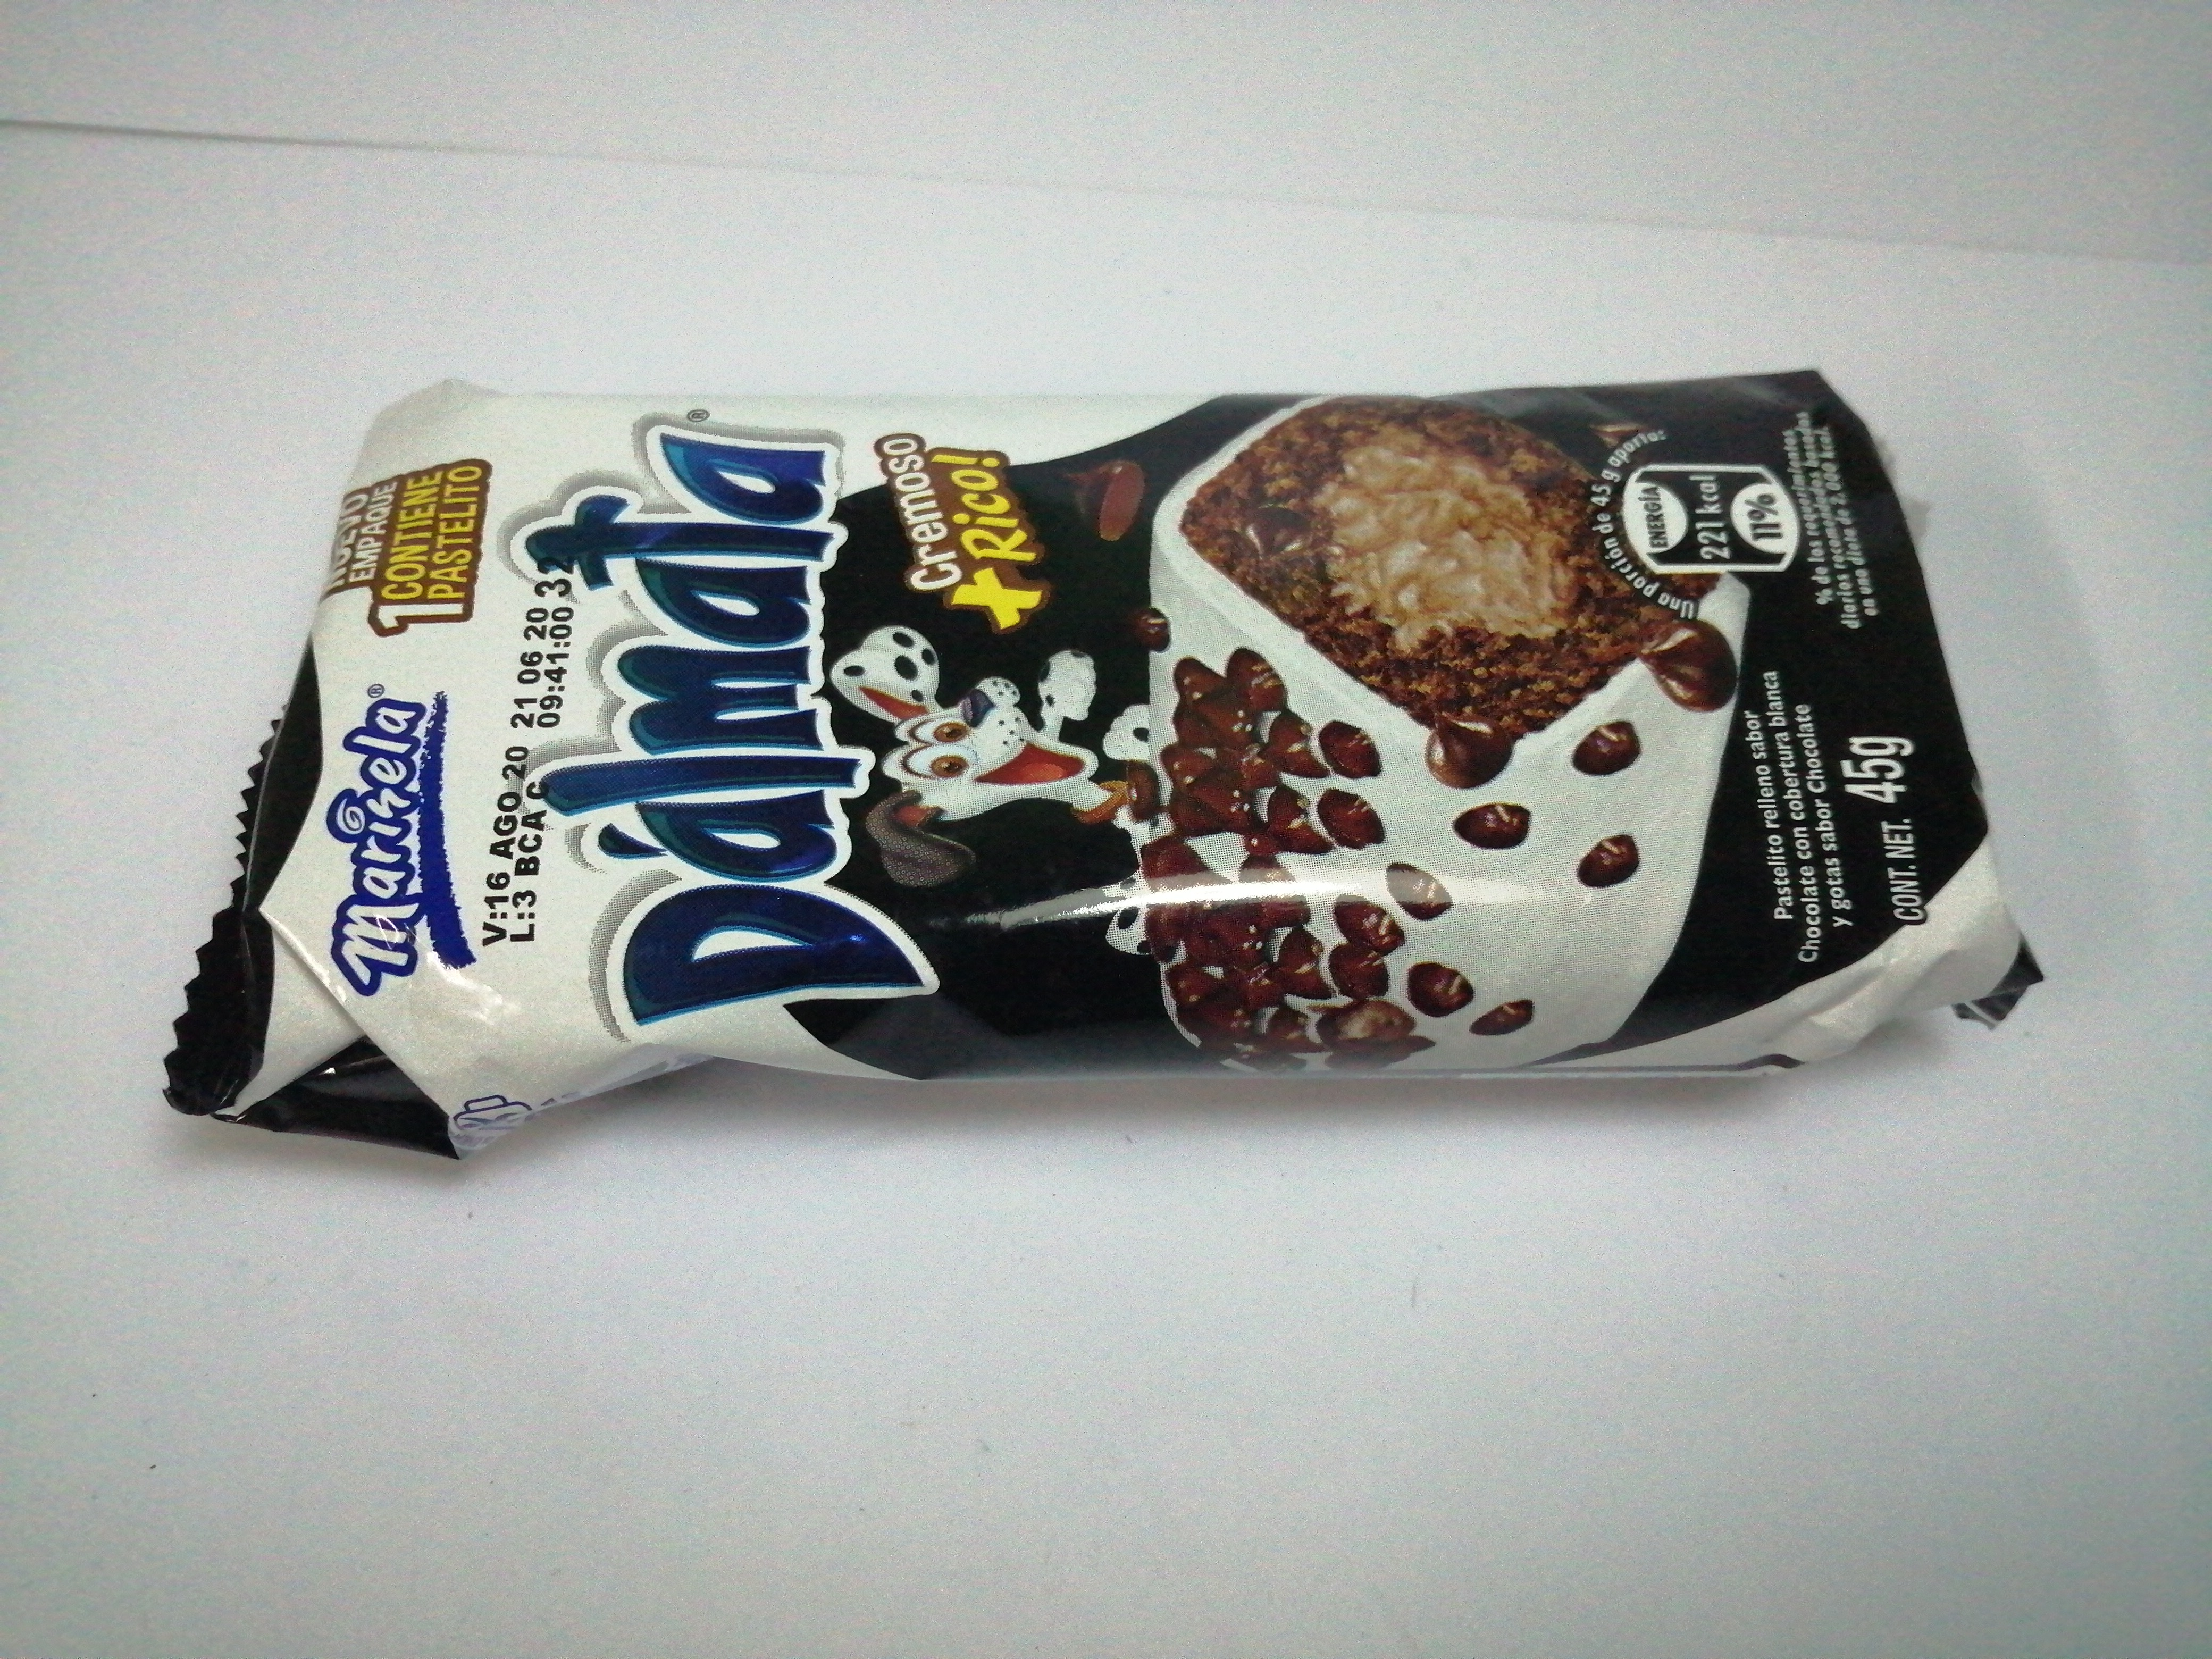dalmata: (157, 359, 2067, 1173)
